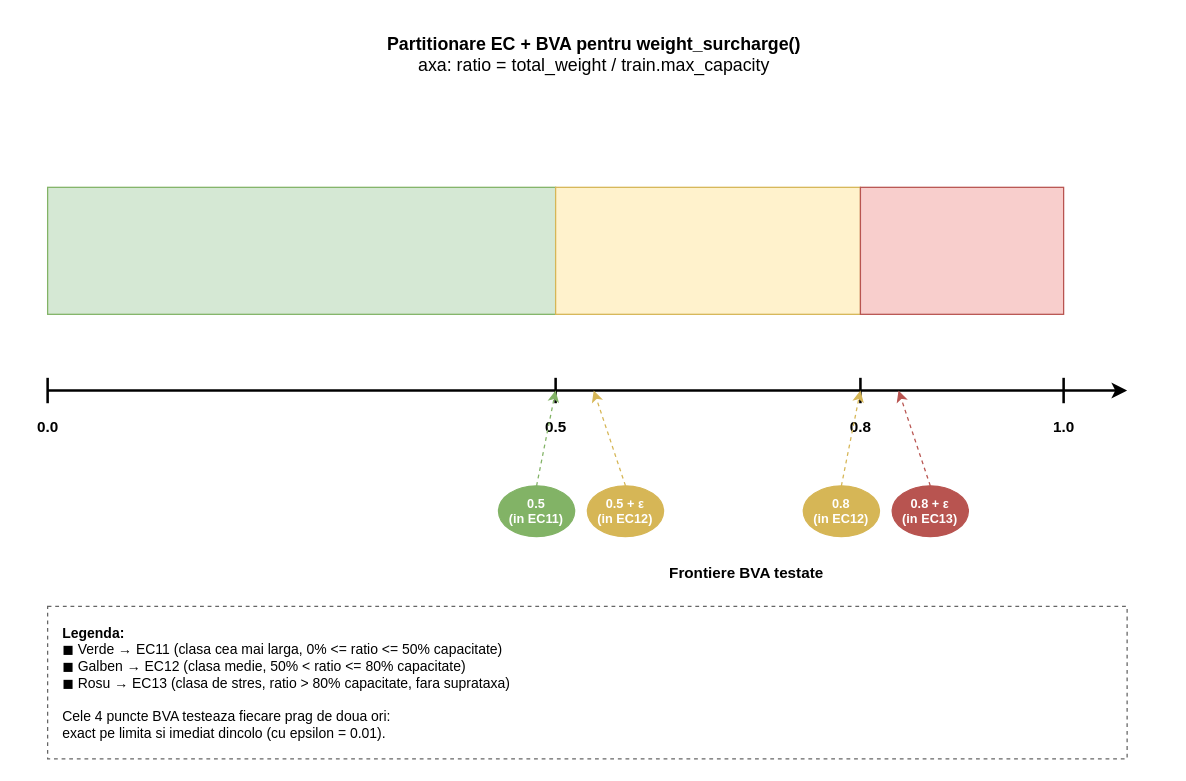
Image size: 1186x781. Some labels were removed from this diagram. The box of each missing label's shape, as (x1, y1, x2, y2) in pixels:
EC11 ratio <= 0.5 suprataxa = 25% * base_cost: (46, 186, 556, 314)
EC12 0.5 < ratio <= 0.8 suprataxa = 10% * base_cost: (554, 186, 860, 314)
EC13 ratio > 0.8 suprataxa = 0: (859, 186, 1064, 314)
